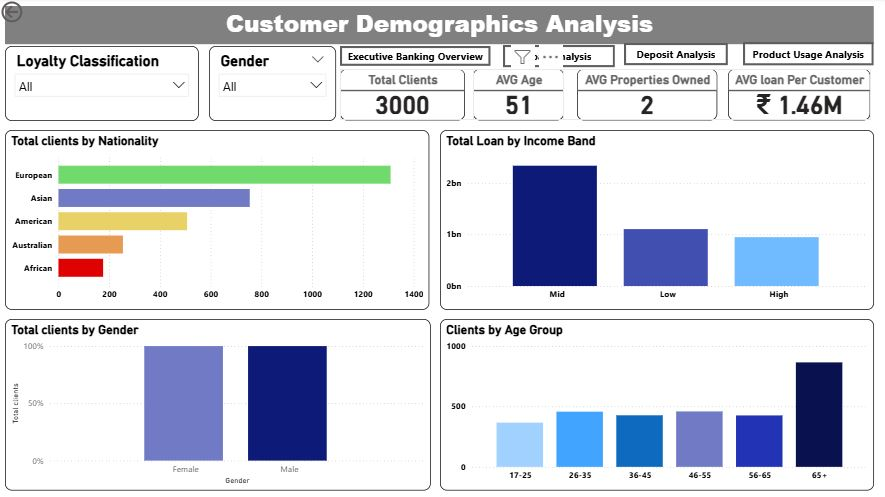

The dashboard page shown, as its layout file describes it:
{"tool":"powerbi","page":{"name":"Customer Analysis","canvas":[1280,720],"ordinal":1},"visuals":[{"type":"textbox","title":"Customer Demographics Analysis","box":[10.1,11.8,1251.4,55.4],"z":0},{"type":"slicer","fields":{"Values":["Gender.Gender"]},"box":[304,68.9,183.1,107.5],"z":1000},{"type":"card","title":"Total Clients","fields":{"Values":["Banking.Total clients"]},"box":[492.2,102.5,179.7,73.9],"z":1000,"group":"g1"},{"type":"slicer","fields":{"Values":["Banking.Loyalty Classification"]},"box":[10.1,68.9,278.8,107.5],"z":2000},{"type":"card","title":"AVG Age","fields":{"Values":["Banking.AVG Age"]},"box":[683.7,102.5,131,73.9],"z":2000,"group":"g1"},{"type":"card","title":"AVG Properties Owned","fields":{"Values":["Banking.AVG properties"]},"box":[833.2,102.5,201.6,73.9],"z":3000,"group":"g1"},{"type":"clusteredBarChart","fields":{"Category":["Banking.Nationality"],"Y":["Banking.Total clients"]},"box":[10.1,189.8,611.4,258.7],"z":3000},{"type":"hundredPercentStackedColumnChart","fields":{"Category":["Gender.Gender"],"Y":["All Measure.Total clients"]},"box":[10.1,461.9,613.1,246.9],"z":4000},{"type":"clusteredColumnChart","title":"Clients by Age Group","fields":{"Category":["Banking.Age Group"],"Y":["Banking.Total clients"]},"box":[636.6,461.9,624.9,246.9],"z":5000},{"type":"actionButton","box":[0,0,100,40],"z":6000},{"type":"clusteredColumnChart","title":"Total Loan by Income Band","fields":{"Y":["All Measure.Total loan"],"Category":["Banking.Income Band"]},"box":[636.6,189.8,624.9,258.7],"z":7000},{"type":"actionButton","box":[727.3,67.2,161.3,31.9],"z":8000},{"type":"actionButton","box":[902,65.5,149.5,31.9],"z":9000},{"type":"actionButton","box":[1073.4,63.8,188.1,33.6],"z":10000},{"type":"actionButton","box":[492.2,68.9,216.7,28.6],"z":11000},{"type":"card","title":"AVG loan Per Customer","fields":{"Values":["All Measure.Avg Loan Per customer"]},"box":[1051.6,102.5,204.9,73.9],"z":11000,"group":"g1"},{"type":"group","id":"g1","title":"Group 1","box":[492.2,102.5,764.3,73.9],"z":12000}]}

Visuals, with their boxes in screenshot pixels (x1, y1, x2, y2), scaled from the page's 1280x720 canvas onto the 885x497 screenshot:
"Customer Demographics Analysis" textbox: <box>7,8,872,46</box>
slicer - Gender.Gender: <box>210,48,337,122</box>
"Total Clients" card: <box>340,71,465,122</box>
slicer - Banking.Loyalty Classification: <box>7,48,200,122</box>
"AVG Age" card: <box>473,71,563,122</box>
"AVG Properties Owned" card: <box>576,71,715,122</box>
clusteredBarChart - Banking.Nationality x Banking.Total clients: <box>7,131,430,310</box>
hundredPercentStackedColumnChart - Gender.Gender x All Measure.Total clients: <box>7,319,431,489</box>
"Clients by Age Group" clusteredColumnChart: <box>440,319,872,489</box>
actionButton: <box>0,0,69,28</box>
"Total Loan by Income Band" clusteredColumnChart: <box>440,131,872,310</box>
actionButton: <box>503,46,614,68</box>
actionButton: <box>624,45,727,67</box>
actionButton: <box>742,44,872,67</box>
actionButton: <box>340,48,490,67</box>
"AVG loan Per Customer" card: <box>727,71,869,122</box>
"Group 1" group: <box>340,71,869,122</box>
